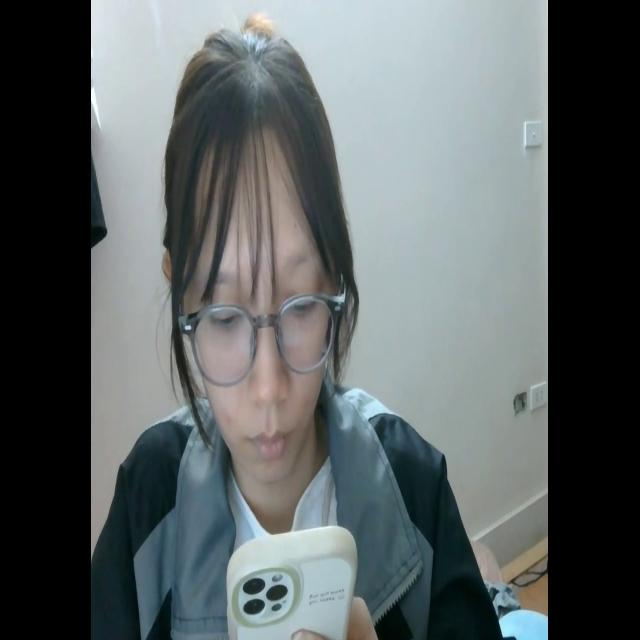phone: (220, 516, 358, 640)
student: (90, 19, 496, 640)
